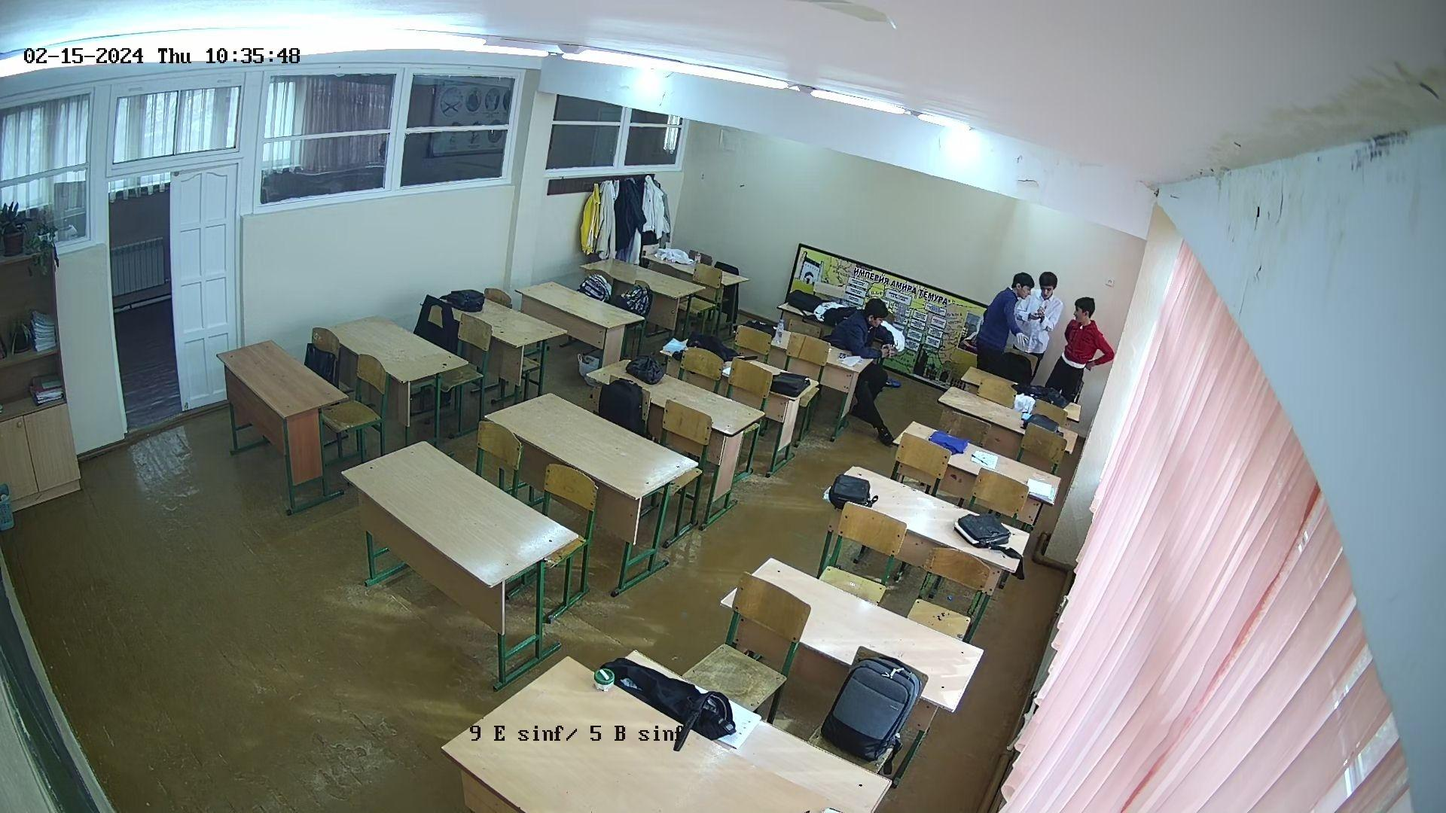Stand Up: (992, 269, 1033, 360), (1070, 295, 1105, 389), (1036, 268, 1060, 348)
